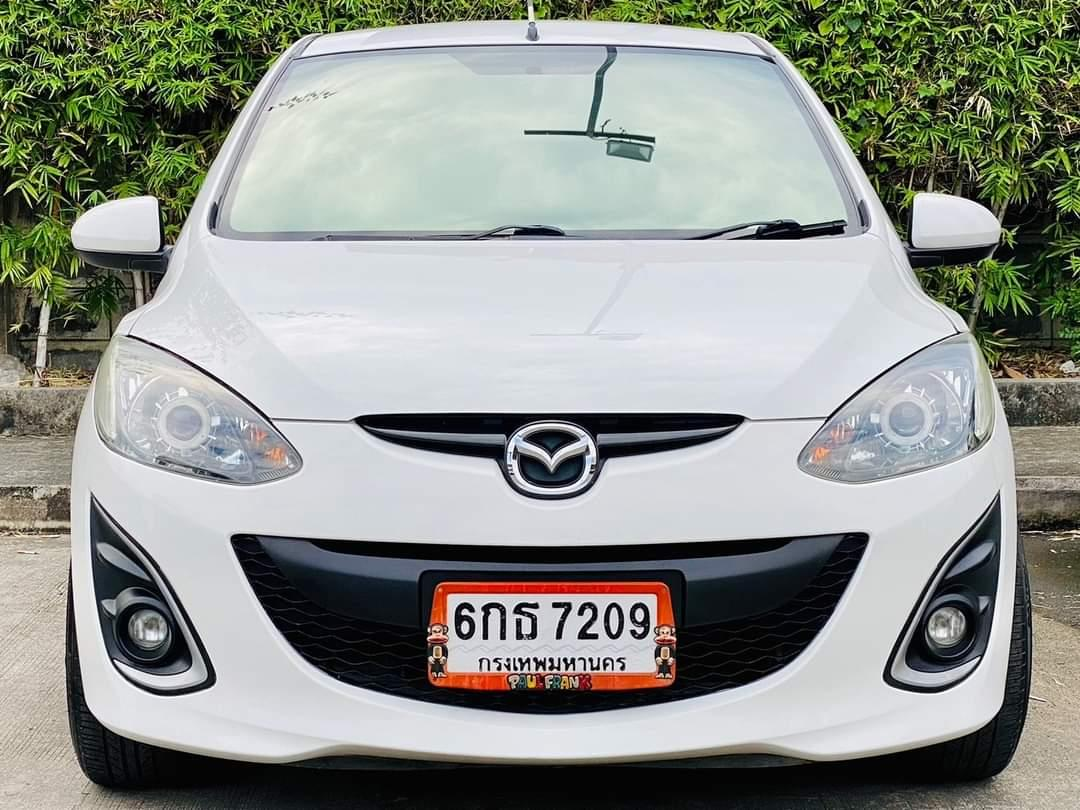license-plate: (418, 574, 683, 702)
